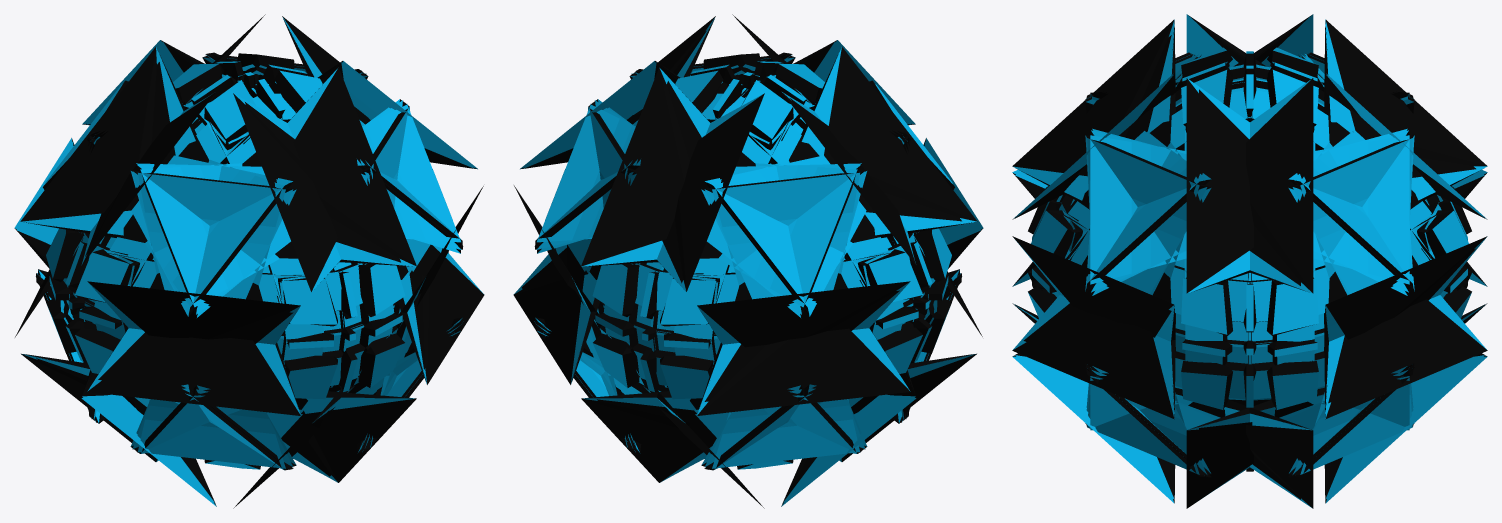
3 views of the same model, side by side, from view 1: azimuth 30°, elevation 25°; view 2: azimuth 150°, elevation 25°; view 3: azimuth 270°, elevation 25° (orthographic). The views are drawn at different scales.
Parts seen in each view (by area): view 1: Cube.015; view 2: Cube.015; view 3: Cube.015.
Boxes of the visible parts, x1,y1,x2,y2 form: Cube.015: [14, 14, 484, 508]; Cube.015: [513, 14, 983, 508]; Cube.015: [1012, 14, 1487, 508].
Size of the model in its own units: 261 by 261 by 261.
